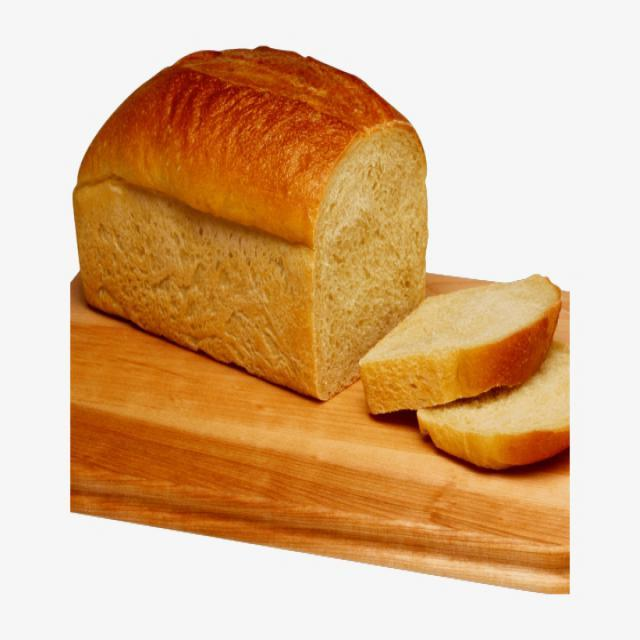Bread: (72, 44, 570, 462)
